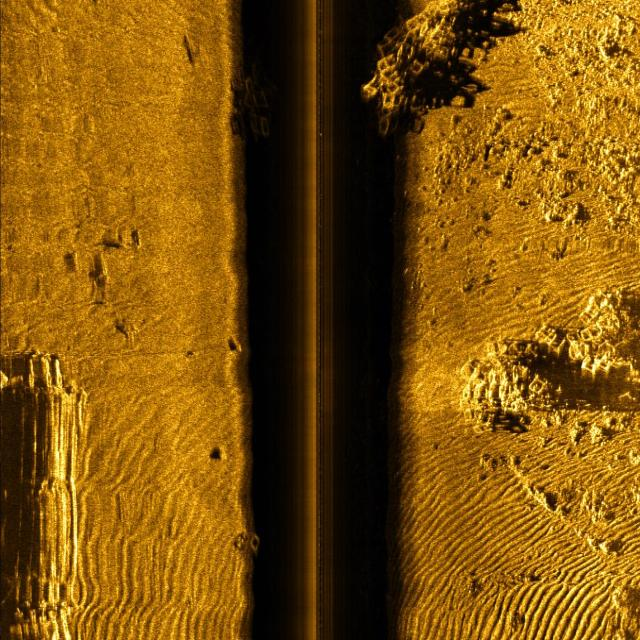artificial reef: (463, 286, 629, 425), (362, 0, 464, 136), (220, 32, 273, 134), (231, 529, 265, 550)
